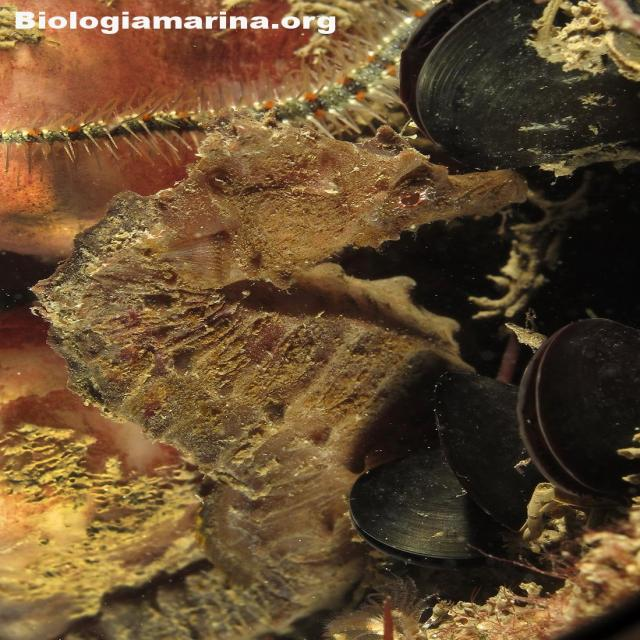Hippo: (178, 114, 546, 284)
